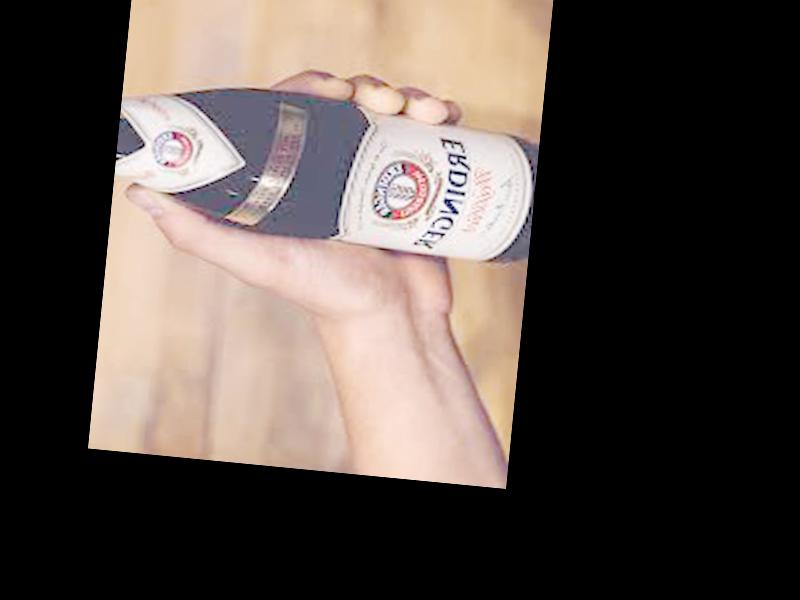Beer: (114, 76, 542, 268)
